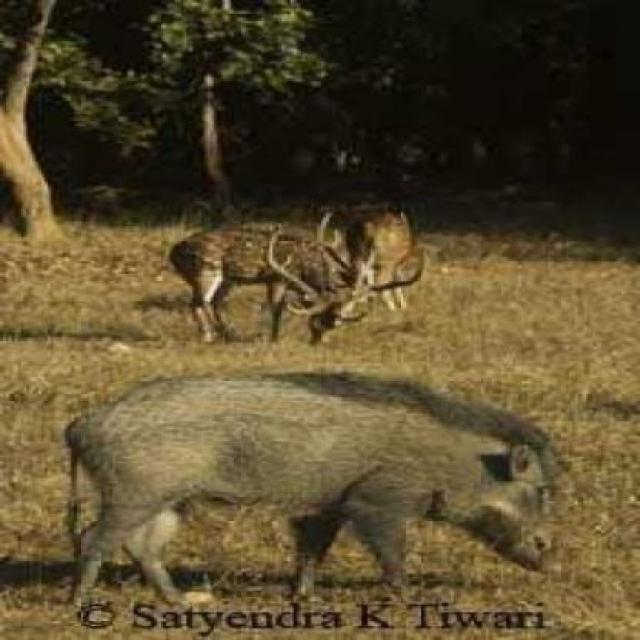Boar: (52, 342, 572, 622)
